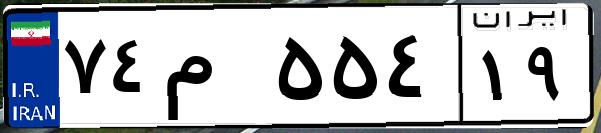1: (475, 38, 525, 113)
4: (385, 28, 445, 110), (110, 28, 158, 98)
5: (270, 28, 330, 110), (330, 28, 385, 110)
7: (57, 26, 110, 100)
9: (525, 38, 570, 115)
م: (158, 20, 270, 120)
